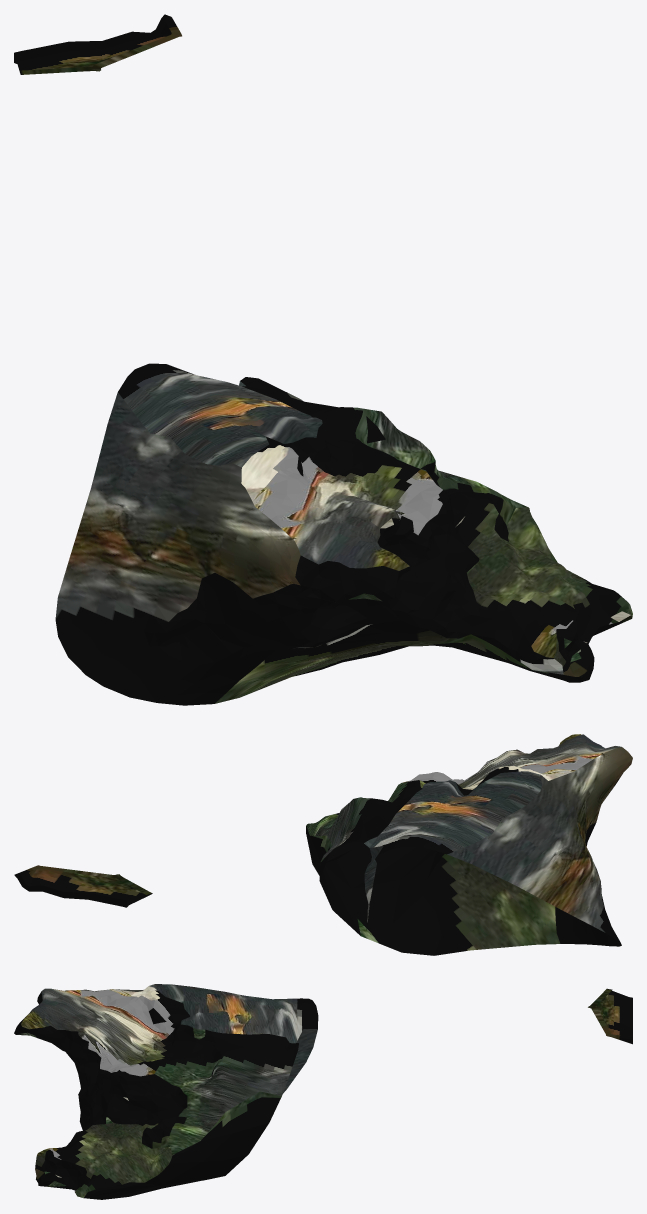
The picture shows the model from 3 angles, top to bottom: view 1: azimuth 30°, elevation 25°; view 2: azimuth 150°, elevation 25°; view 3: azimuth 270°, elevation 25°; orthographic projection. The views are drawn at different scales.
Visible parts, largest first — view 1: node_147; view 2: node_147; view 3: node_147.
Boxes of the visible parts, <box> form: node_147: <box>14,14,632,705</box>; node_147: <box>14,734,632,955</box>; node_147: <box>14,984,632,1199</box>.
Bounding box in the file's own units: 3.76 × 2.5 × 7.
1 material, 1 textured.
